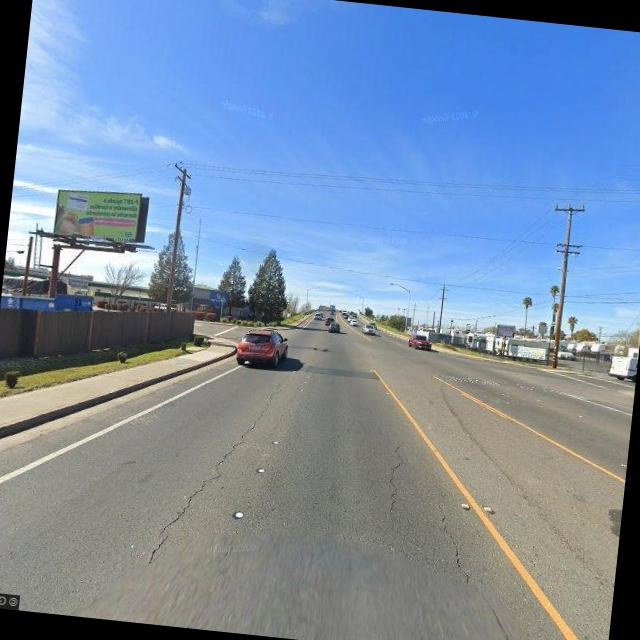pothole: (146, 379, 278, 574), (428, 498, 482, 584), (380, 433, 414, 523)
